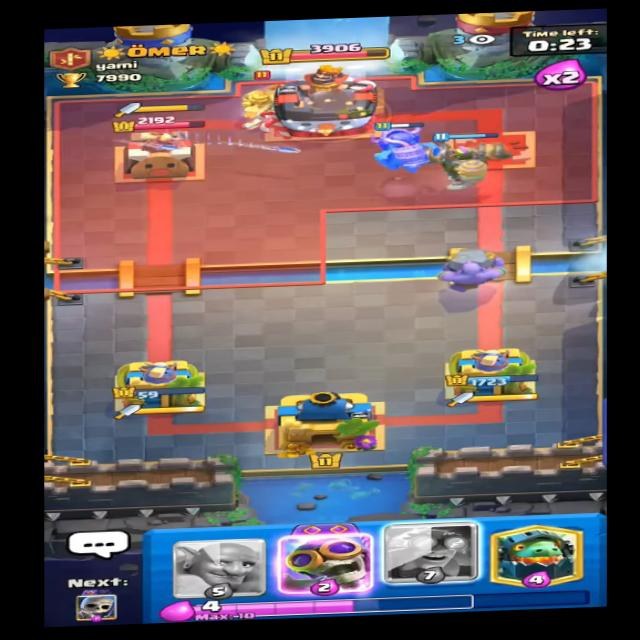Prince: (265, 50, 324, 102)
